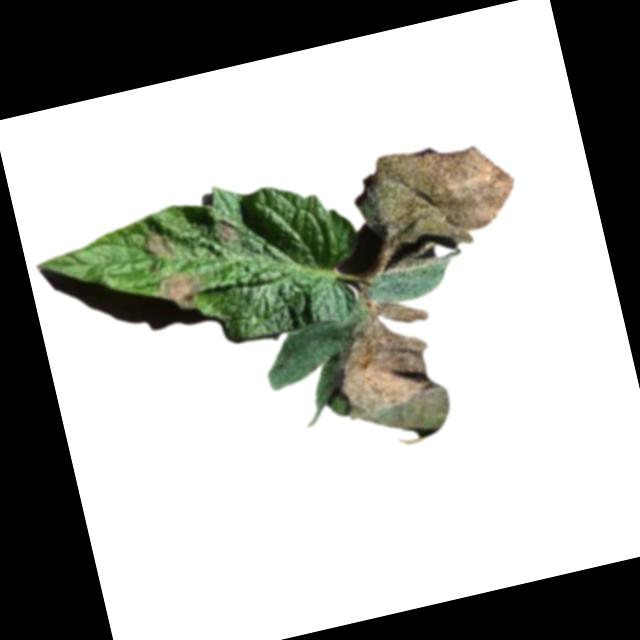Late_blight: (344, 127, 525, 270), (319, 289, 457, 457), (155, 267, 202, 313), (140, 228, 174, 261), (211, 216, 237, 246)
